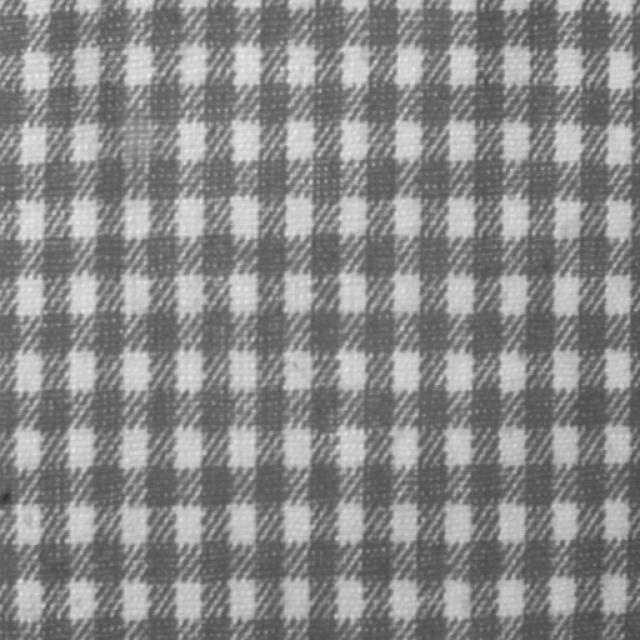Stain-Defect: (124, 116, 155, 166)
